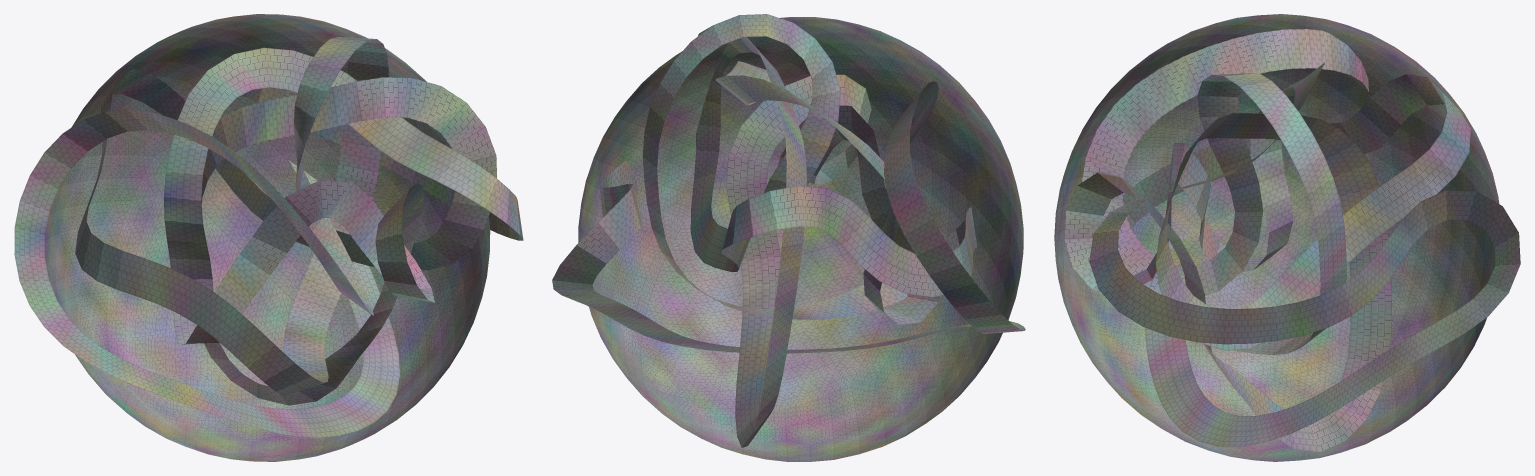
File: stairs.glb
The picture shows the model from 3 angles, left to right: view 1: azimuth 30°, elevation 25°; view 2: azimuth 150°, elevation 25°; view 3: azimuth 270°, elevation 25°; orthographic projection.
Parts seen in each view (by area): view 1: file1; view 2: file1; view 3: file1.
Part boxes in pixels (box(x1,y1,x2,y2)): file1: box(14, 14, 523, 461); file1: box(552, 14, 1025, 461); file1: box(1054, 14, 1520, 461).
Bounding box in the file's own units: 56.47 × 52.23 × 54.48.
Materials: 1 (1 with a texture image).
